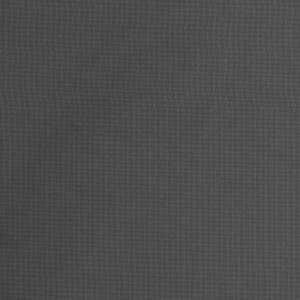Wrinkle: (1, 11, 154, 254)
